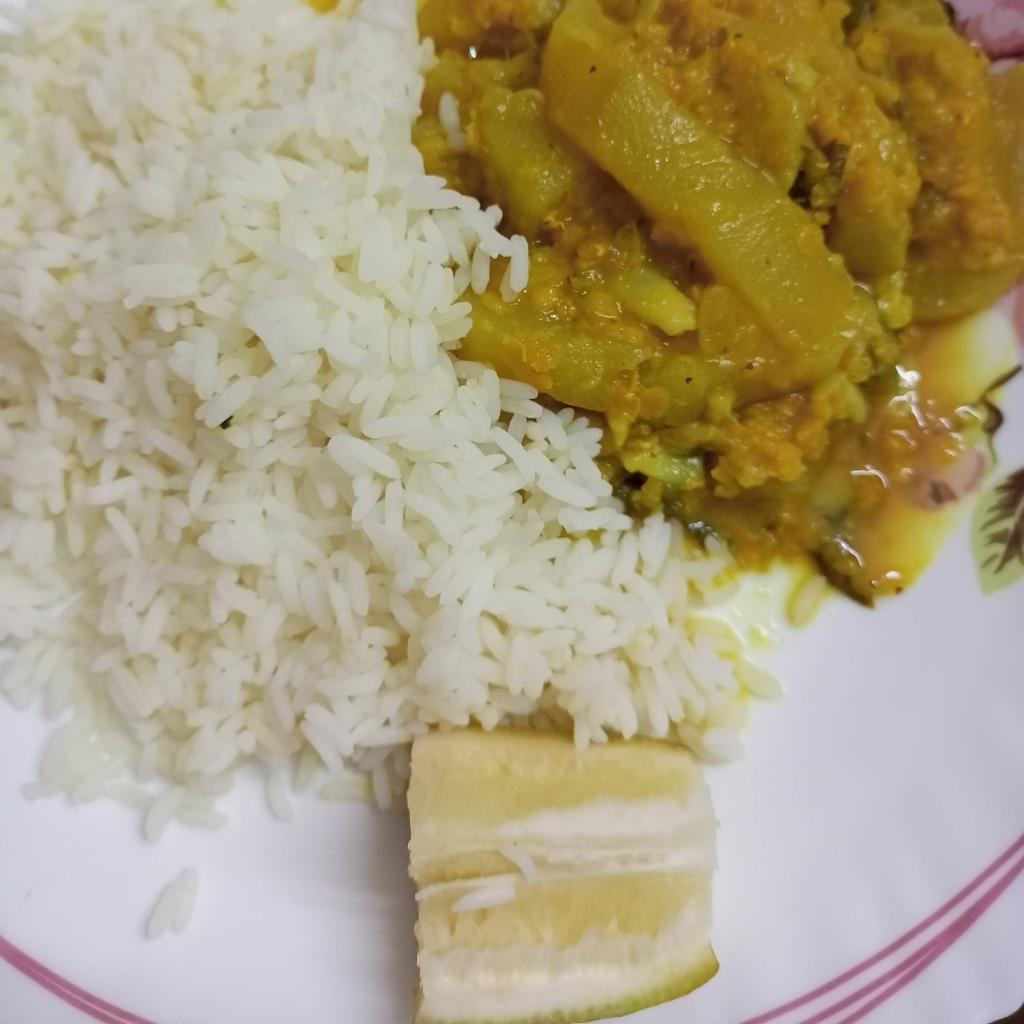kumra-vaji: (415, 0, 1024, 603)
lemon: (410, 731, 718, 1024)
rice: (0, 2, 775, 821)
